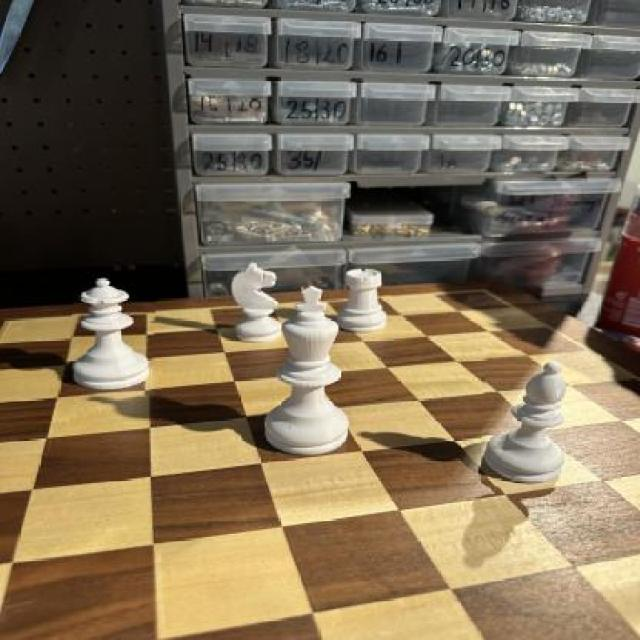black-rook: (481, 349, 574, 488)
white-bishop: (266, 281, 359, 467)
white-king: (226, 262, 287, 348)
white-pawn: (69, 277, 156, 395)
white-queen: (337, 266, 392, 336)
